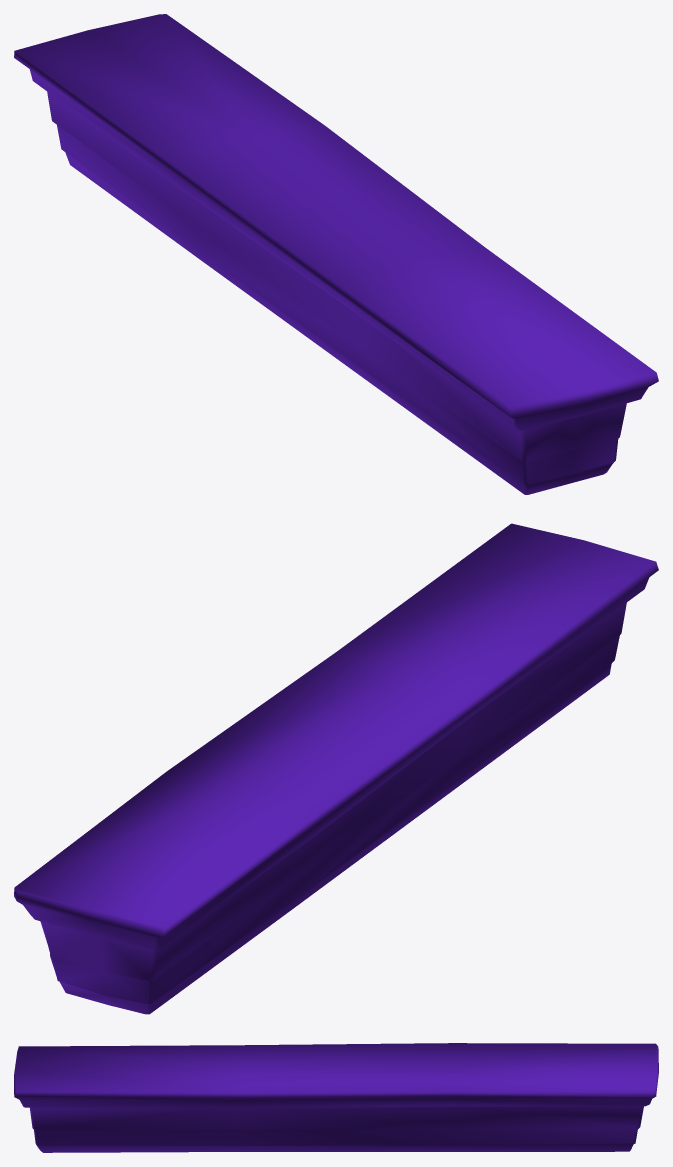
The model's file is stone bar.FBX.
3 renders of one model, top to bottom at view 1: azimuth 30°, elevation 25°; view 2: azimuth 150°, elevation 25°; view 3: azimuth 270°, elevation 25°, orthographic. The views are drawn at different scales.
Visible parts, largest first — view 1: stone bar; view 2: stone bar; view 3: stone bar.
Part boxes in pixels (x1,y1,x2,y2): stone bar: (14,14,658,494); stone bar: (14,523,658,1014); stone bar: (14,1043,658,1152).
Bounding box in the file's own units: 13.71 × 9.4 × 75.9.
